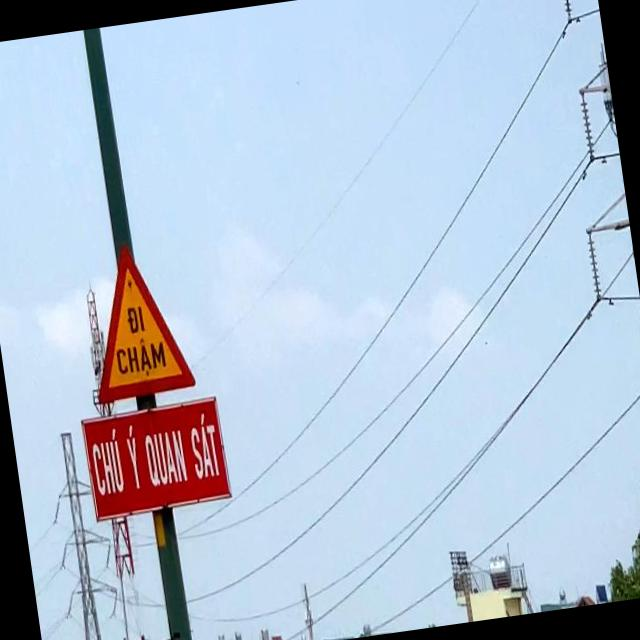W-245a: (73, 236, 198, 402)
